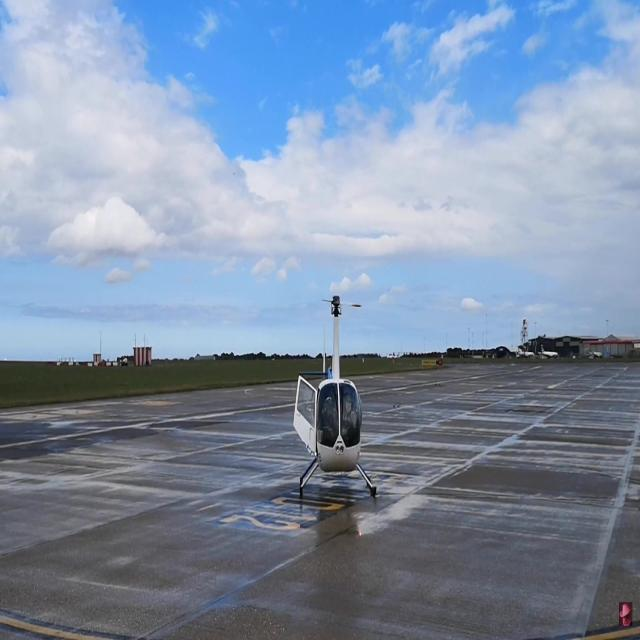CIV_HELO: (292, 293, 378, 500)
